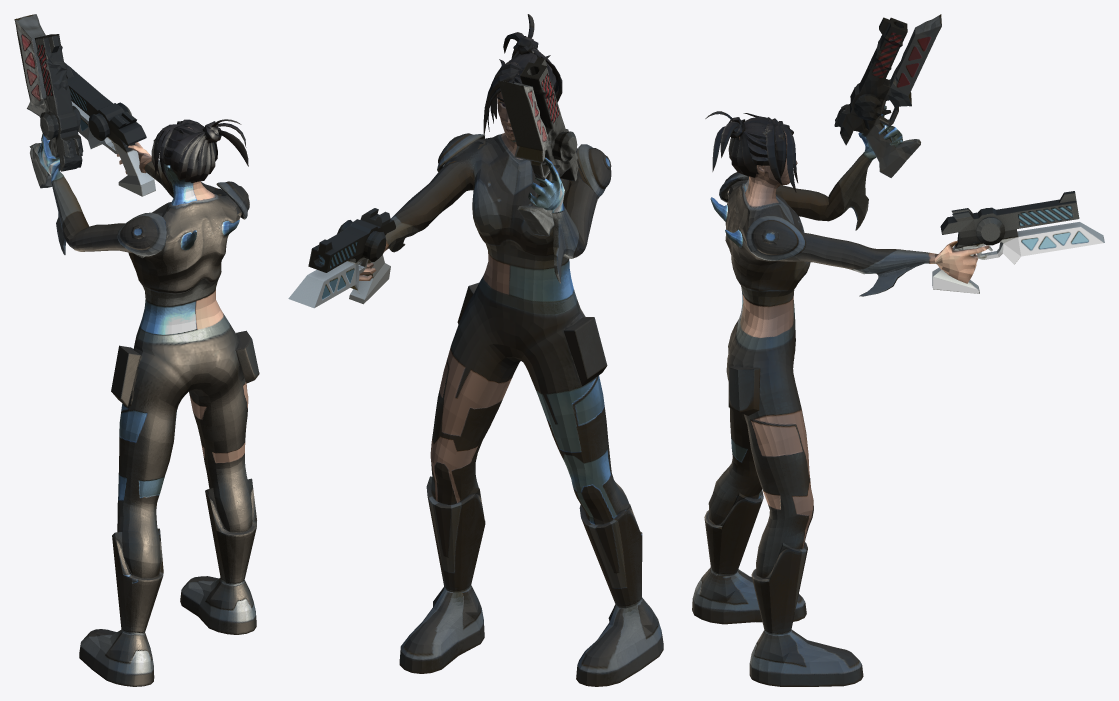
3 renders of one model, left to right at view 1: azimuth 30°, elevation 25°; view 2: azimuth 150°, elevation 25°; view 3: azimuth 270°, elevation 25°, orthographic. The views are drawn at different scales.
Parts seen in each view (by area): view 1: Dex_LOW_Plane.001; view 2: Dex_LOW_Plane.001; view 3: Dex_LOW_Plane.001.
Boxes of the visible parts, x1=… form: Dex_LOW_Plane.001: x1=14, y1=14, x2=259, y2=686; Dex_LOW_Plane.001: x1=288, y1=14, x2=663, y2=686; Dex_LOW_Plane.001: x1=692, y1=14, x2=1104, y2=686.
Size of the model in its own units: 1.63 by 5.21 by 3.27.
